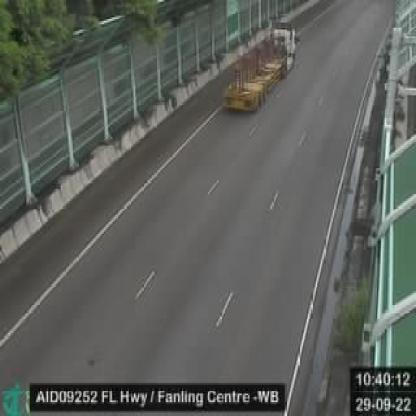Truck: (222, 16, 302, 112)
